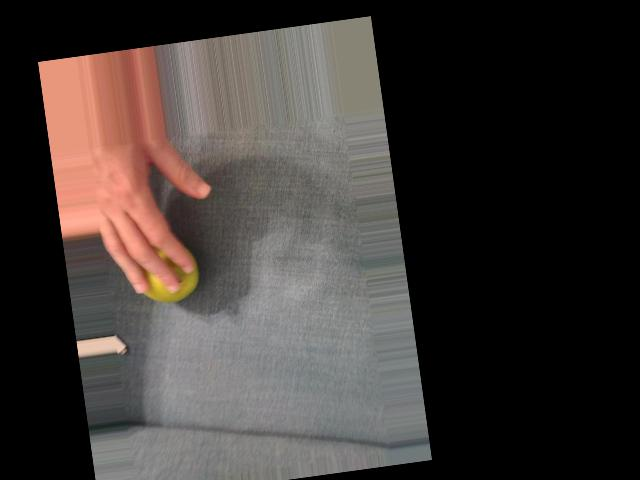apple: (132, 225, 209, 320)
